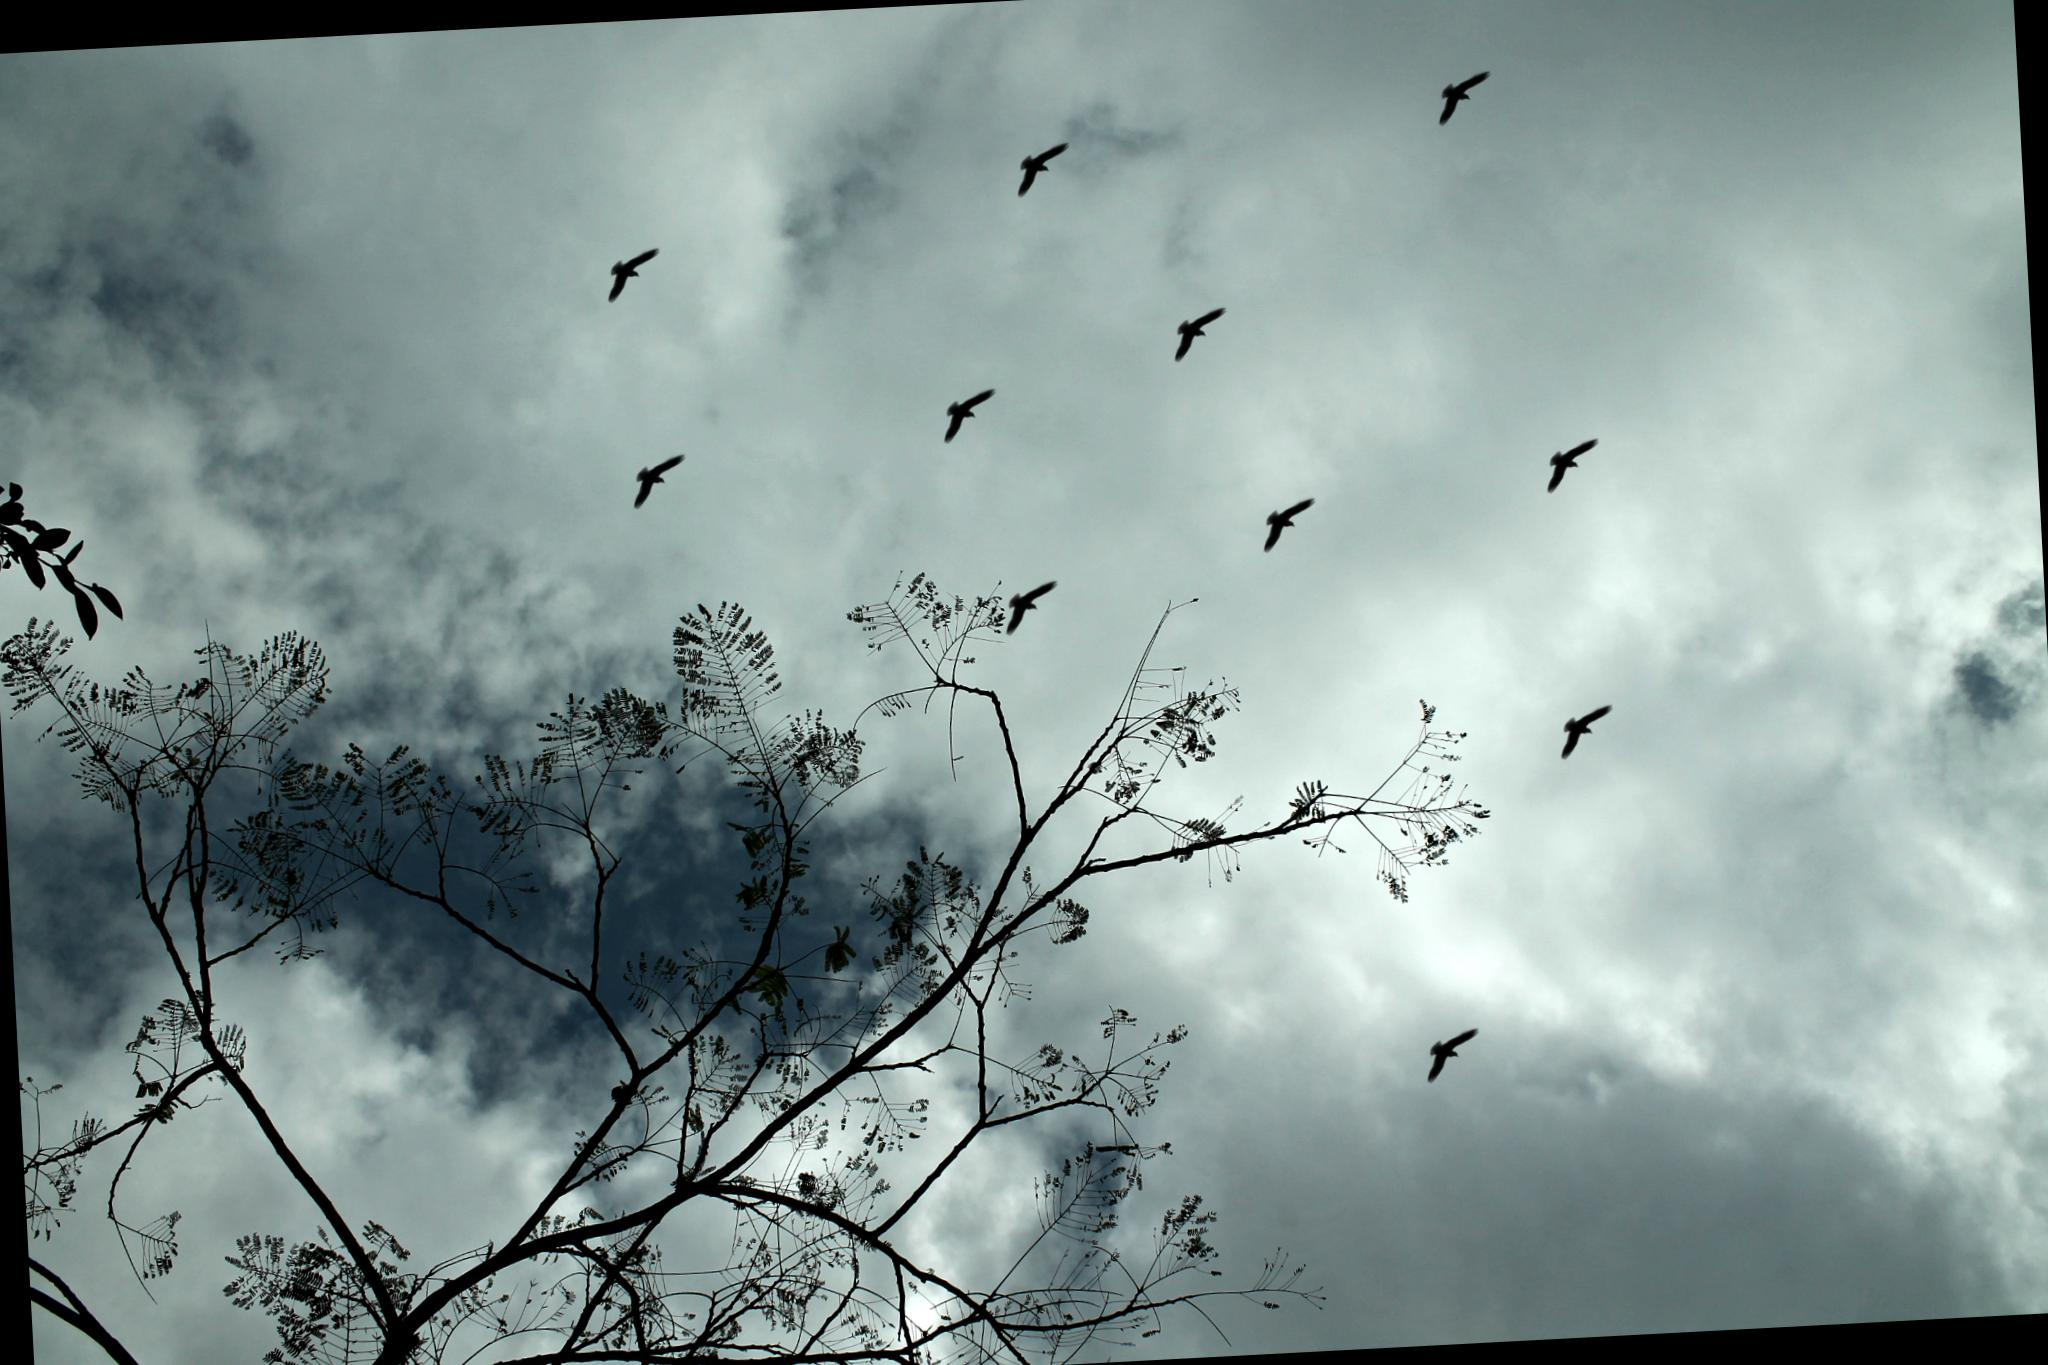bird: (1500, 411, 1611, 524), (1238, 472, 1334, 568), (1541, 684, 1628, 788)
